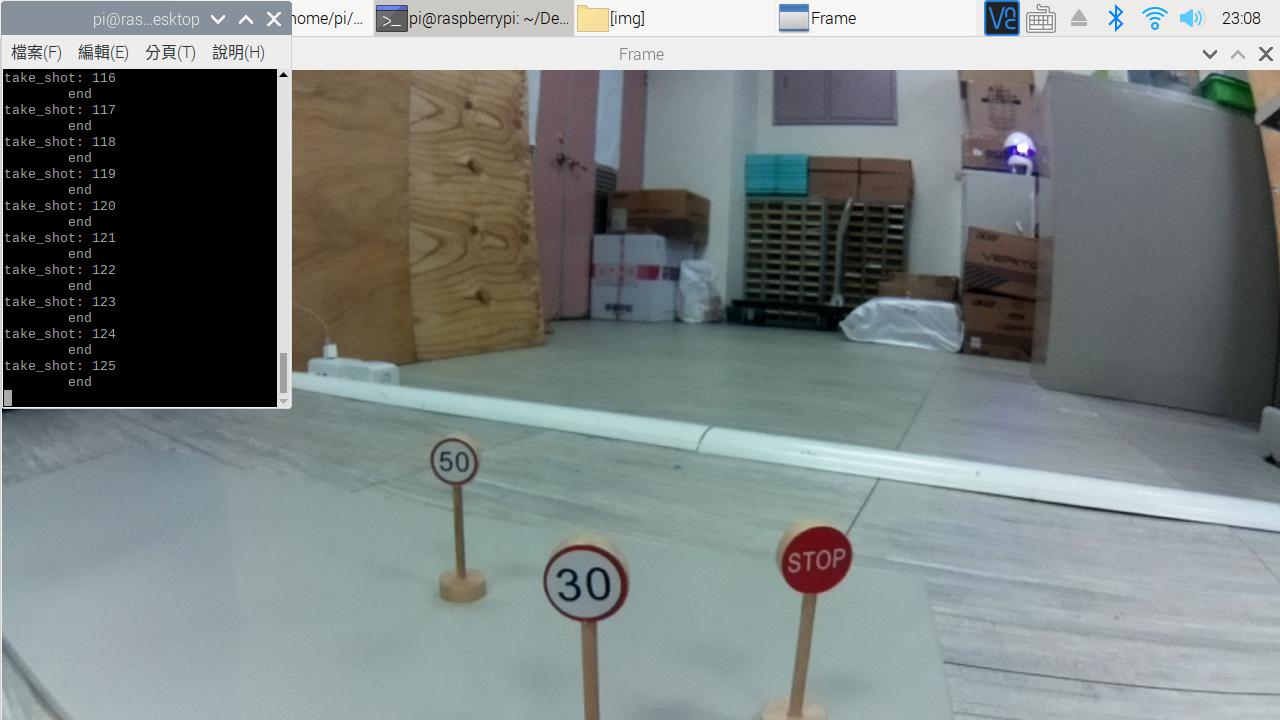Speed30: (534, 544, 647, 629)
Speed50: (431, 430, 498, 501)
Stop: (766, 525, 872, 604)
